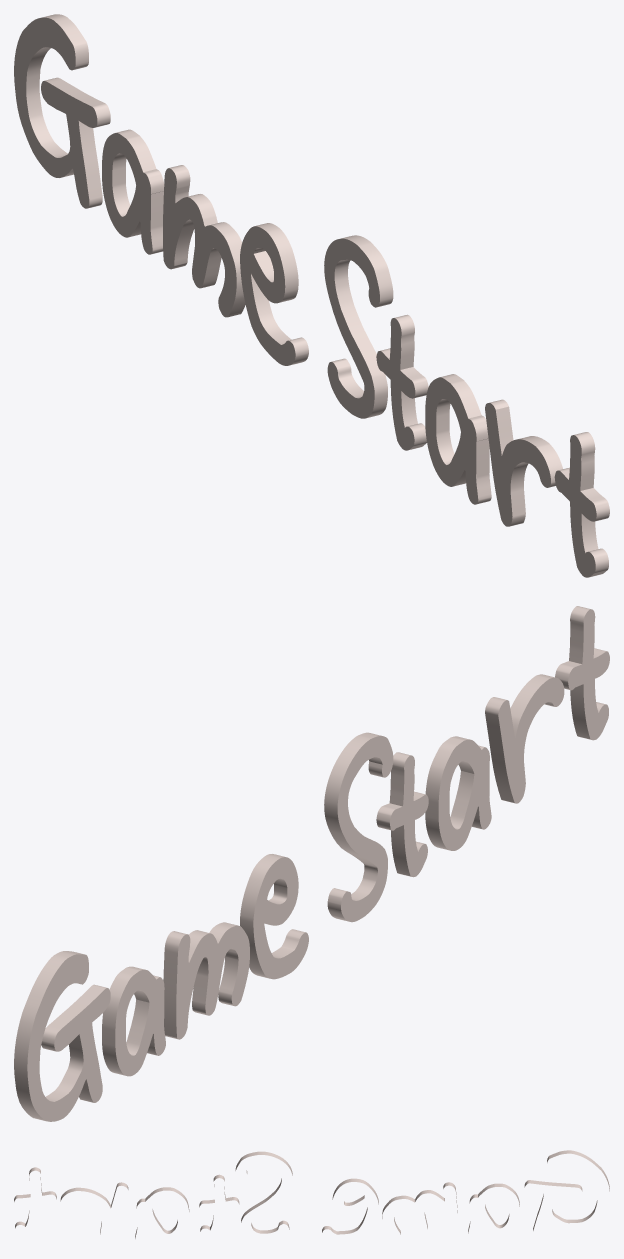
Rendered from BookSpineWordModel.gltf.
The picture shows the model from 3 angles, top to bottom: view 1: azimuth 30°, elevation 25°; view 2: azimuth 150°, elevation 25°; view 3: azimuth 270°, elevation 25°; orthographic projection. The views are drawn at different scales.
Parts seen in each view (by area): view 1: gamestart; view 2: gamestart; view 3: gamestart.
Boxes of the visible parts, x1,y1,x2,y2 form: gamestart: (14, 14, 609, 577); gamestart: (14, 606, 609, 1121); gamestart: (14, 1150, 609, 1238).
Size of the model in its own units: 0.05 by 0.6353 by 3.77.
